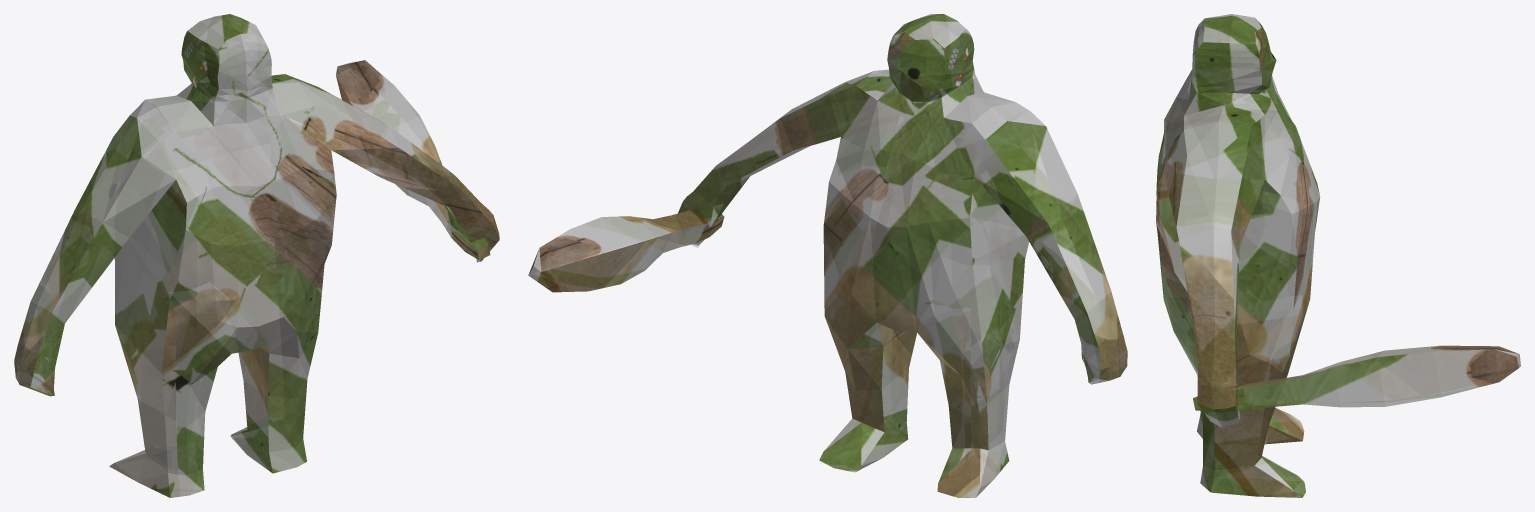
File: Enemigo23.obj
The picture shows the model from 3 angles, left to right: view 1: azimuth 30°, elevation 25°; view 2: azimuth 150°, elevation 25°; view 3: azimuth 270°, elevation 25°; orthographic projection. The views are drawn at different scales.
Visible parts, largest first — view 1: Cube; view 2: Cube; view 3: Cube.
Part boxes in pixels (x1,y1,x2,y2): Cube: [14, 14, 499, 497]; Cube: [528, 14, 1127, 497]; Cube: [1156, 14, 1520, 497].
Bounding box in the file's own units: 3.01 × 2.71 × 2.
1 material, 1 textured.
